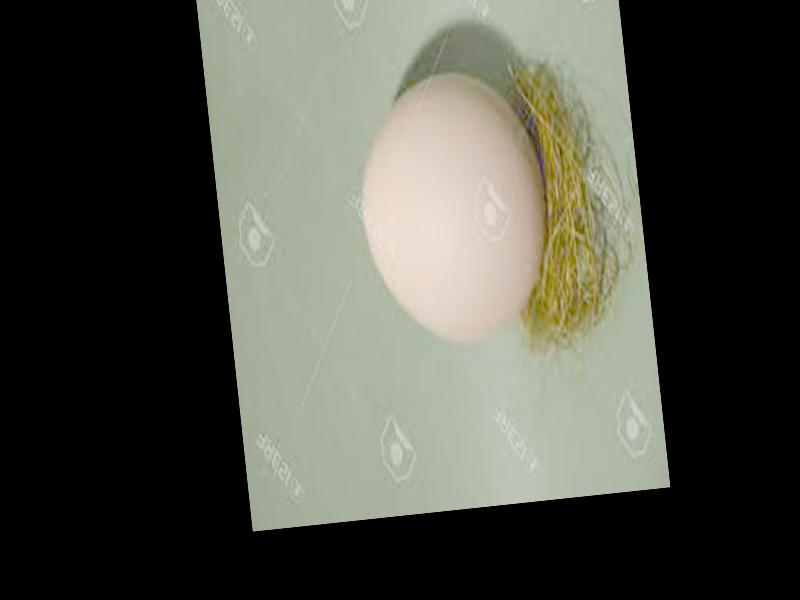Eggs: (347, 65, 555, 349)
